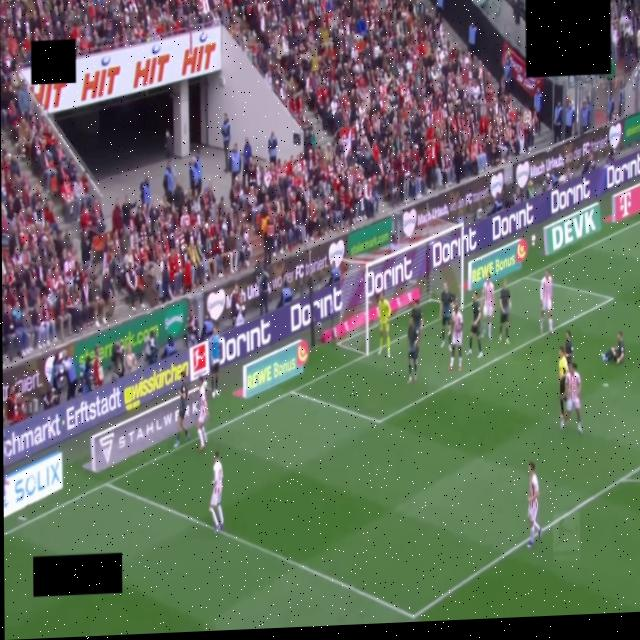player: (561, 362, 581, 433), (174, 371, 189, 447), (528, 462, 541, 547), (210, 451, 223, 533), (467, 292, 482, 358), (449, 304, 463, 371), (440, 282, 454, 347), (540, 270, 553, 334), (499, 280, 511, 345), (408, 317, 420, 382), (482, 274, 494, 339), (378, 293, 390, 357), (197, 376, 207, 451), (602, 332, 625, 364), (410, 301, 424, 349), (564, 329, 574, 364)
referee: (557, 345, 569, 419)
